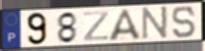8: (55, 10, 78, 45)
9: (25, 11, 50, 46)
A: (107, 8, 144, 43)
N: (141, 5, 170, 41)
S: (171, 5, 198, 40)
Z: (83, 10, 111, 42)
